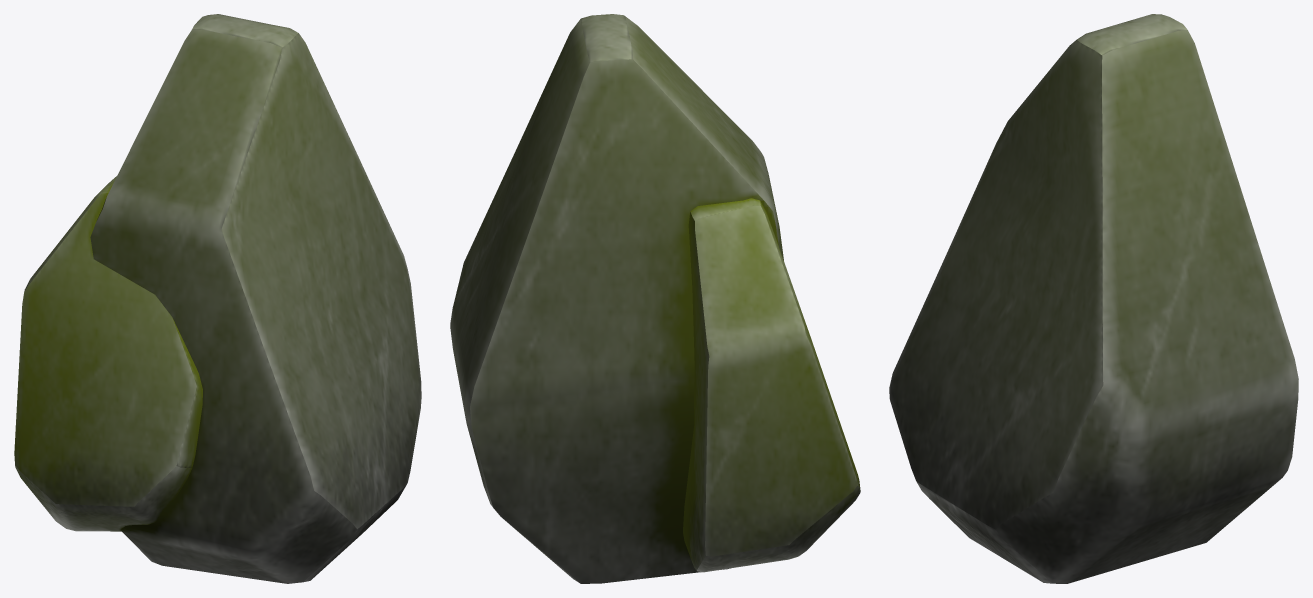
Rendered from rockSet3_unity.fbx.
3 views of the same model, side by side, from view 1: azimuth 30°, elevation 25°; view 2: azimuth 150°, elevation 25°; view 3: azimuth 270°, elevation 25° (orthographic). The views are drawn at different scales.
Parts seen in each view (by area): view 1: Object003; view 2: Object003; view 3: Object003.
Part boxes in pixels (x1=…): Object003: x1=14, y1=14, x2=421, y2=583; Object003: x1=450, y1=14, x2=860, y2=583; Object003: x1=889, y1=14, x2=1298, y2=583.
Bounding box in the file's own units: 35.34 × 31.25 × 43.46.
